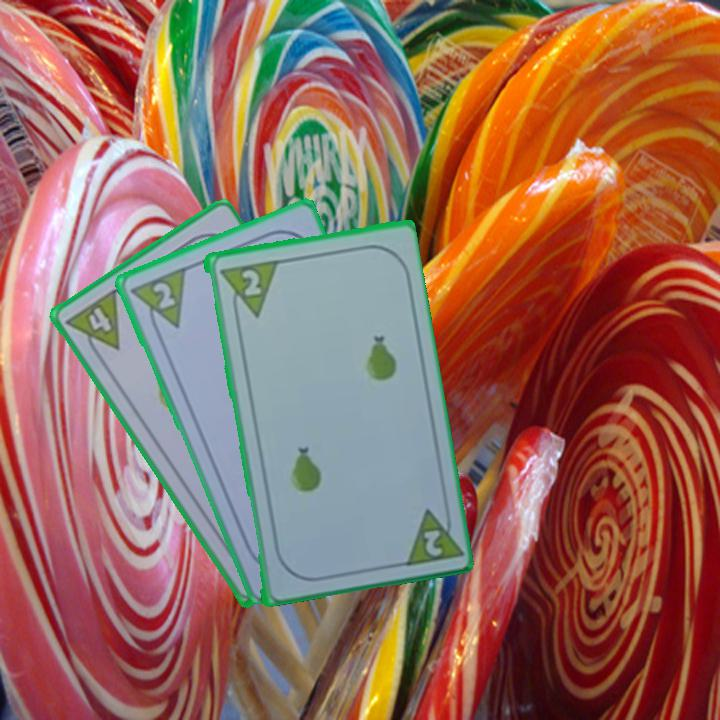2p: (126, 262, 189, 338), (397, 500, 462, 569), (237, 265, 264, 299)
4p: (62, 285, 123, 364)
